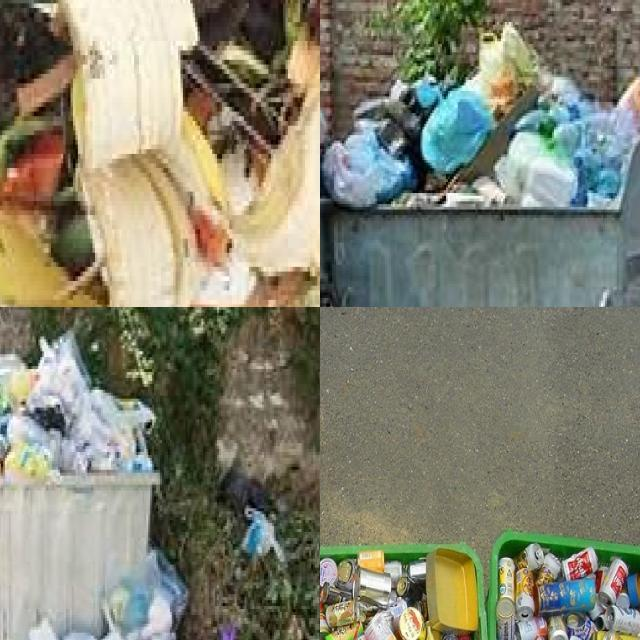Garbage: (323, 25, 640, 209), (320, 530, 640, 640), (0, 323, 163, 473)
Plastic_Bag: (322, 131, 417, 208), (421, 87, 494, 175), (353, 81, 421, 156)
Plastic_bottle: (517, 77, 639, 206)
Tin_box: (426, 548, 478, 631), (354, 568, 392, 607), (364, 612, 398, 640), (398, 606, 426, 640), (566, 612, 596, 640), (326, 621, 363, 640), (320, 586, 330, 640), (358, 550, 383, 571), (320, 557, 337, 585), (424, 621, 443, 640)
can: (535, 575, 597, 615), (497, 557, 516, 640), (598, 557, 629, 605), (563, 546, 598, 580), (514, 564, 535, 620), (604, 606, 640, 635), (326, 599, 357, 628), (535, 553, 562, 585), (514, 544, 544, 571), (517, 617, 547, 640), (548, 615, 569, 640)
contaminated_waste: (0, 330, 159, 470)
